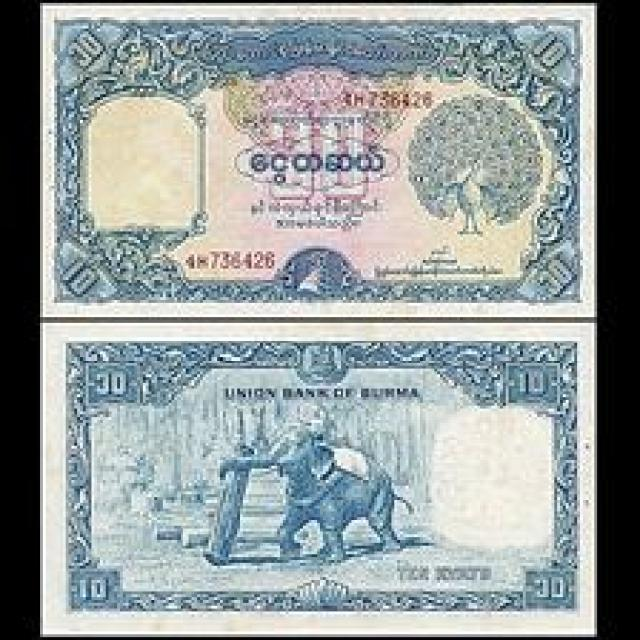banknote: (41, 4, 593, 320), (38, 325, 594, 629)
